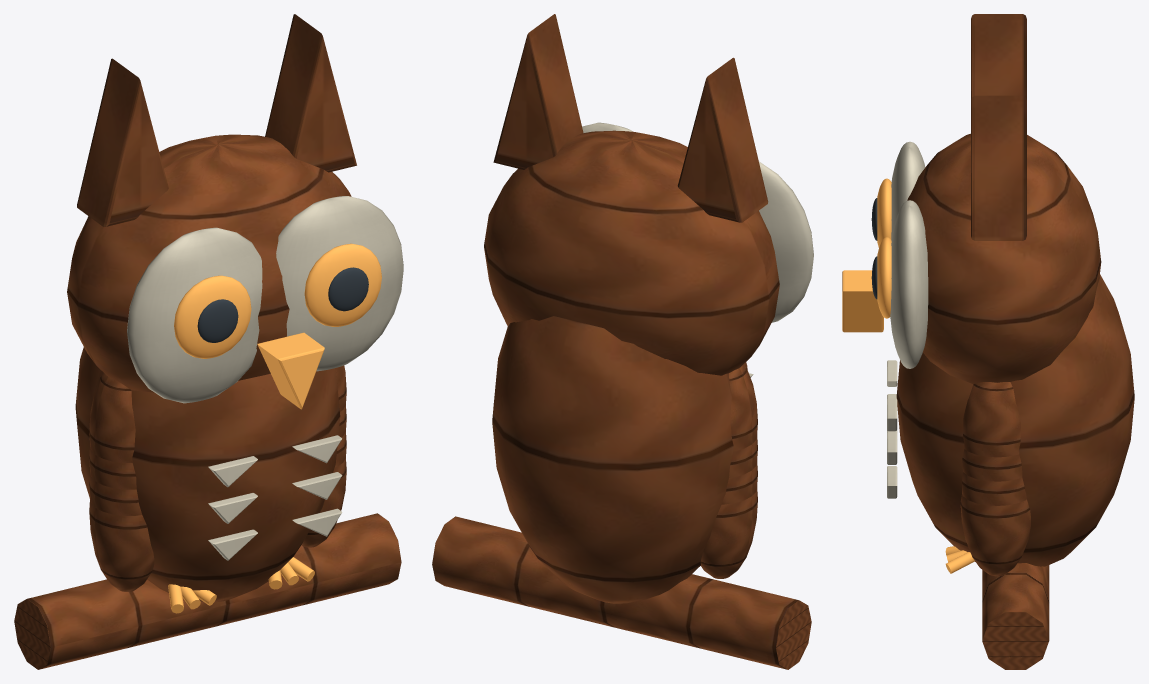
File: hollowwick-halloween-perched-horned-owl-5c421e61__21638.glb
3 views of the same model, side by side, from view 1: azimuth 30°, elevation 25°; view 2: azimuth 150°, elevation 25°; view 3: azimuth 270°, elevation 25° (orthographic). The views are drawn at different scales.
Parts seen in each view (by area): view 1: perched-horned-owl; view 2: perched-horned-owl; view 3: perched-horned-owl.
Part boxes in pixels (left/top/right/bottom): perched-horned-owl: left=14, top=14, right=403, bottom=669; perched-horned-owl: left=432, top=14, right=813, bottom=669; perched-horned-owl: left=842, top=14, right=1134, bottom=669.
Bounding box in the file's own units: 0.5 × 0.7949 × 0.393.
4 materials, 2 textured.
